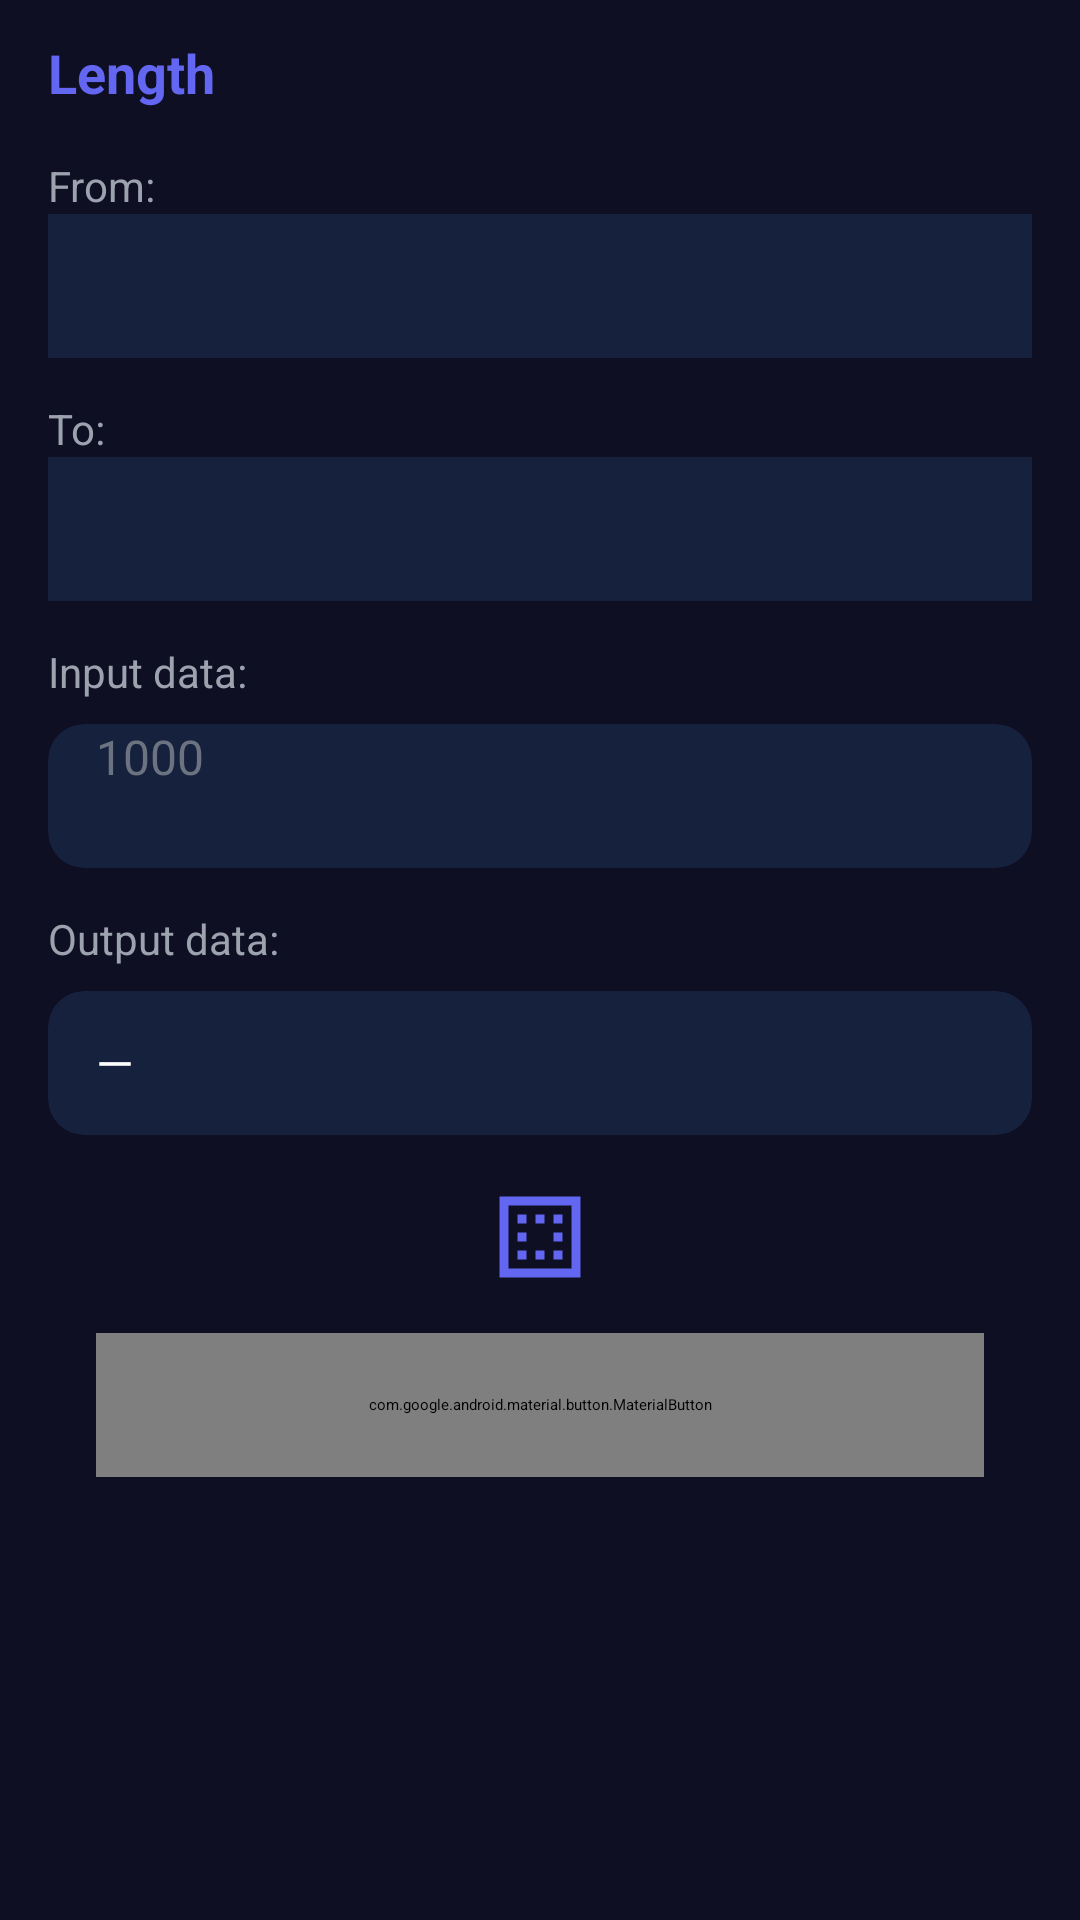

Named icons in this screenshot (1080×1920) and their bounding boxes, (x1, y1, x2, y2):
density: (499, 1196, 581, 1278)
